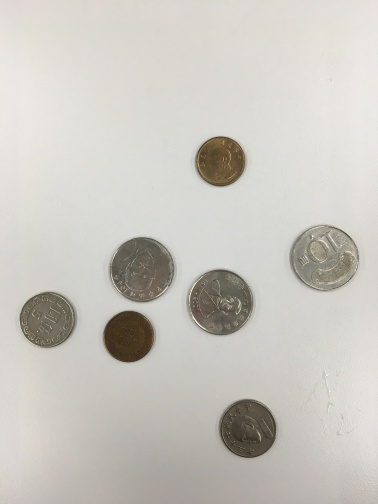1 dollar: (96, 303, 166, 370), (186, 131, 259, 194)
10 dollar: (283, 219, 369, 302)
5 dollar: (209, 384, 288, 466), (183, 263, 263, 342), (11, 284, 84, 358), (106, 232, 179, 306)
